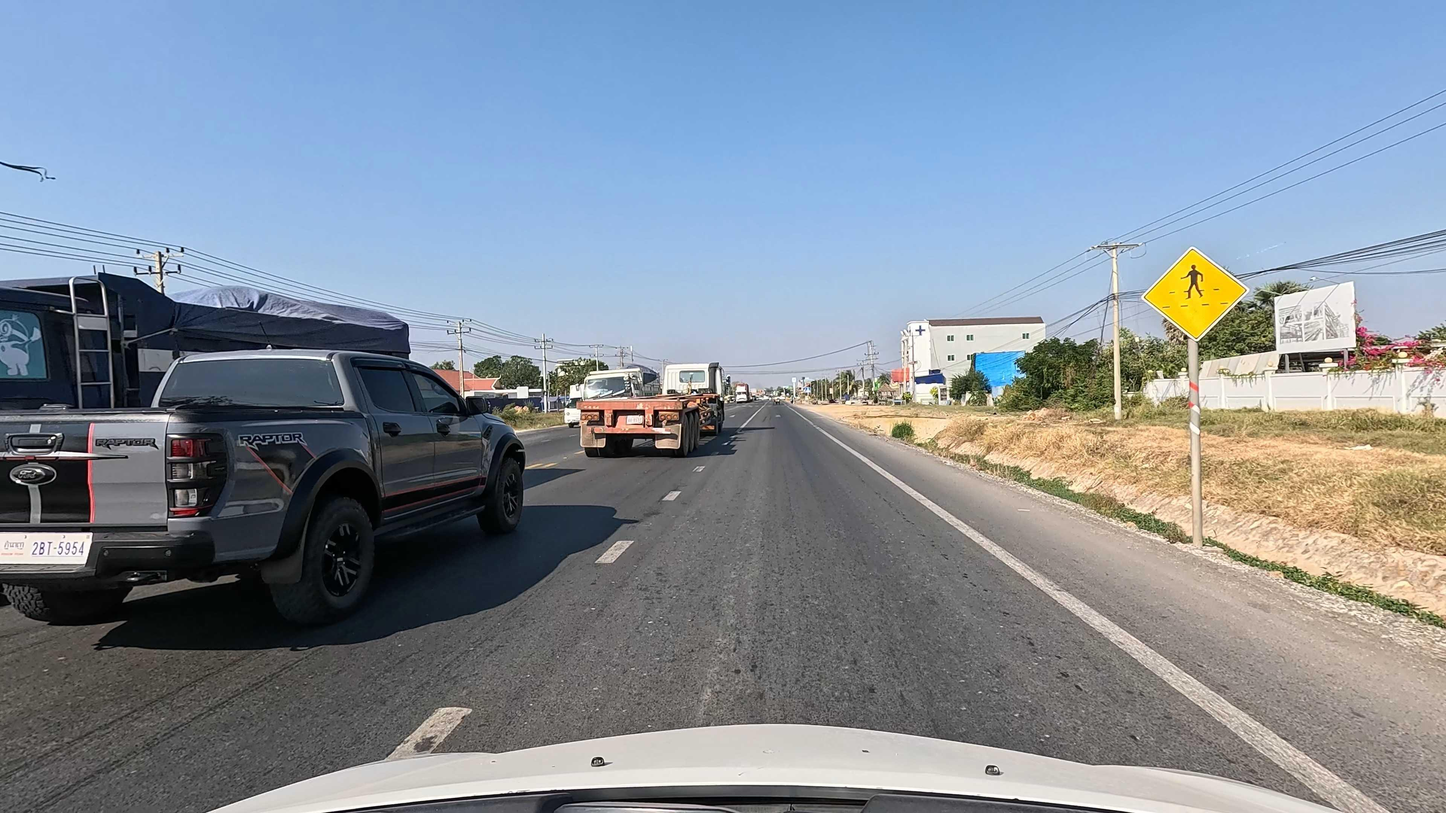pedestrian_crossing: (1141, 245, 1251, 343)
